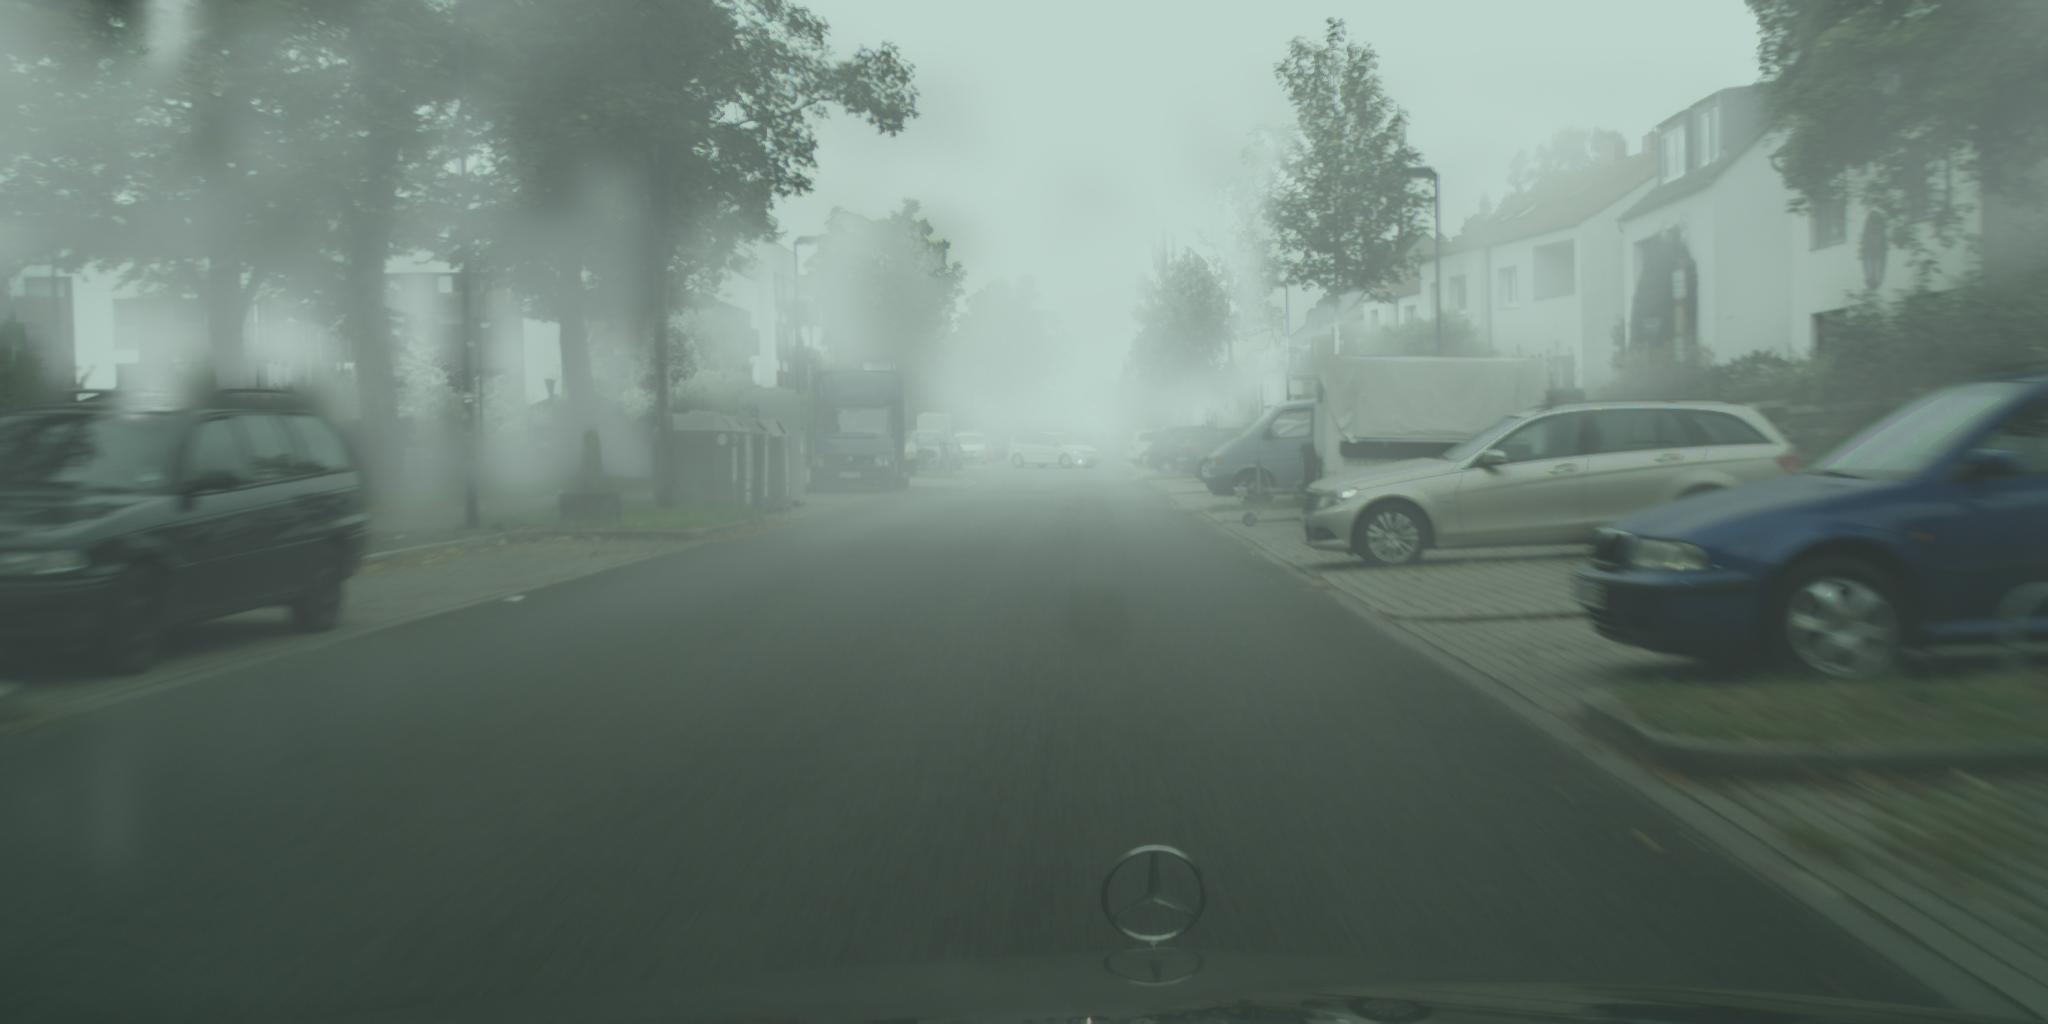car: (1575, 367, 2048, 688), (1, 388, 370, 677), (1304, 398, 1805, 569), (1206, 398, 1334, 502), (1176, 428, 1262, 485), (1007, 428, 1102, 470), (1145, 428, 1215, 475), (1125, 430, 1178, 469), (906, 428, 953, 470), (943, 438, 965, 472), (1118, 434, 1149, 455)
truck: (811, 370, 920, 495)
